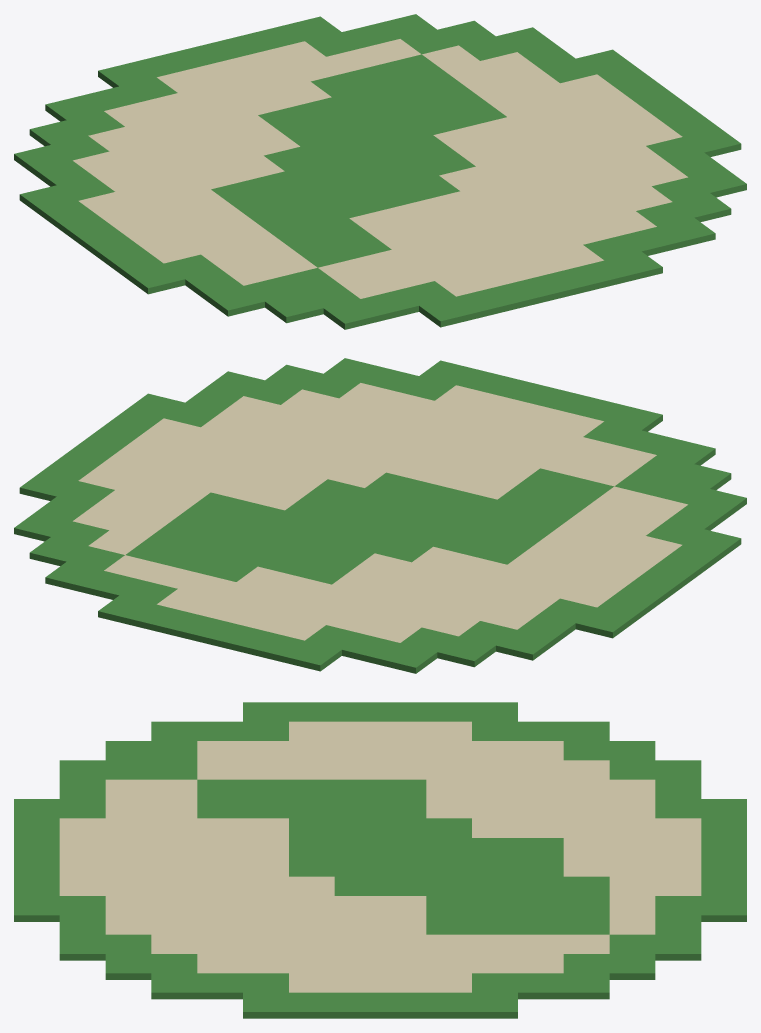
Rendered from ncb-rug-leaf.glb.
3 renders of one model, top to bottom at view 1: azimuth 30°, elevation 25°; view 2: azimuth 150°, elevation 25°; view 3: azimuth 270°, elevation 25°, orthographic. The views are drawn at different scales.
Visible parts, largest first — view 1: box-prop; view 2: box-prop; view 3: box-prop.
Boxes of the visible parts, <box> form: box-prop: <box>14,14,746,329</box>; box-prop: <box>14,358,746,673</box>; box-prop: <box>14,702,746,1018</box>.
Bounding box in the file's own units: 3.04 × 0.03 × 3.04.
